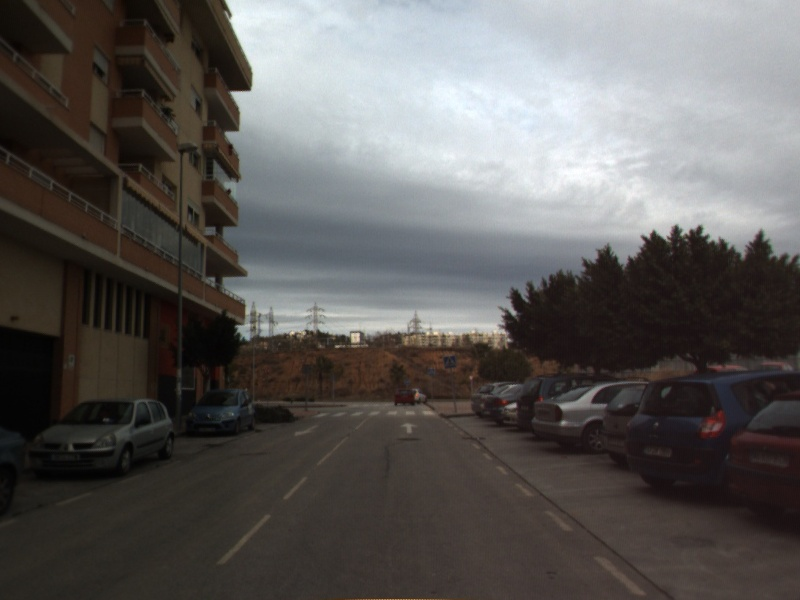STRAIGHT: (398, 420, 420, 436)
